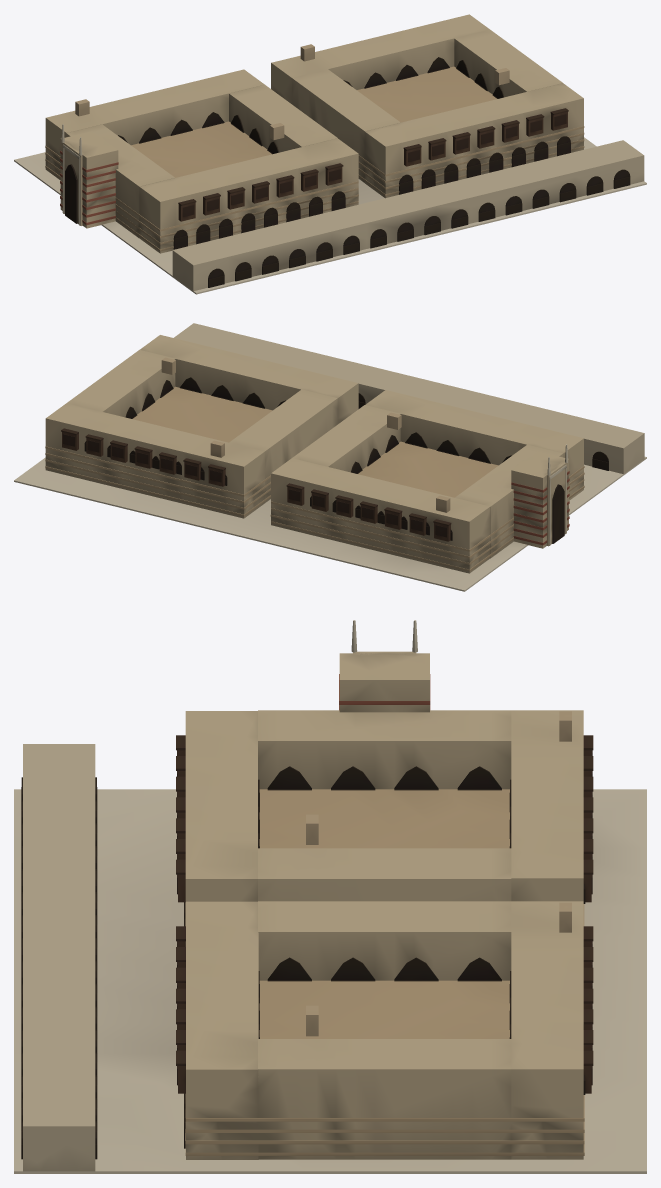
File: khan-el-khalili.glb
The picture shows the model from 3 angles, top to bottom: view 1: azimuth 30°, elevation 25°; view 2: azimuth 150°, elevation 25°; view 3: azimuth 270°, elevation 25°; orthographic projection. The views are drawn at different scales.
Parts seen in each view (by area): view 1: p1_khans, p2_gate and oriels, p0_ground; view 2: p1_khans, p0_ground, p2_gate and oriels; view 3: p1_khans, p0_ground, p2_gate and oriels.
Part boxes in pixels (box(x1,y1,x2,y2)): p1_khans: box(45, 14, 644, 291); p2_gate and oriels: box(60, 44, 568, 228); p0_ground: box(14, 137, 646, 294); p1_khans: box(45, 323, 644, 573); p0_ground: box(14, 456, 646, 591); p2_gate and oriels: box(61, 357, 569, 548); p1_khans: box(21, 710, 585, 1171); p0_ground: box(14, 789, 646, 1173); p2_gate and oriels: box(176, 620, 593, 1093).
Bounding box in the file's own units: 104 × 19.05 × 70.
